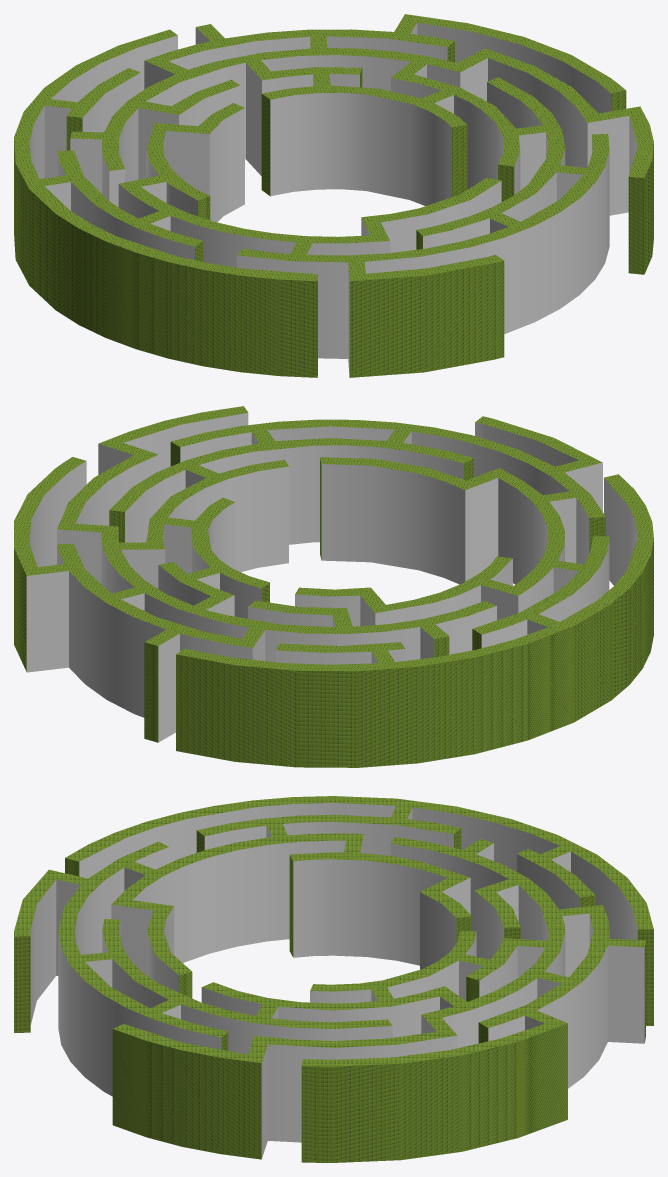
Rendered from mesh1_model_lev1_lev2.glb.
3 views of the same model, one above another, from view 1: azimuth 30°, elevation 25°; view 2: azimuth 150°, elevation 25°; view 3: azimuth 270°, elevation 25° (orthographic).
Parts seen in each view (by area): view 1: mesh1_model_lev1_lev2; view 2: mesh1_model_lev1_lev2; view 3: mesh1_model_lev1_lev2.
Boxes of the visible parts, x1,y1,x2,y2 form: mesh1_model_lev1_lev2: [14, 14, 653, 377]; mesh1_model_lev1_lev2: [14, 406, 653, 767]; mesh1_model_lev1_lev2: [14, 796, 653, 1162].
Size of the model in its own units: 37.4 by 6.21 by 37.38.
Materials: 2 (1 with a texture image).
